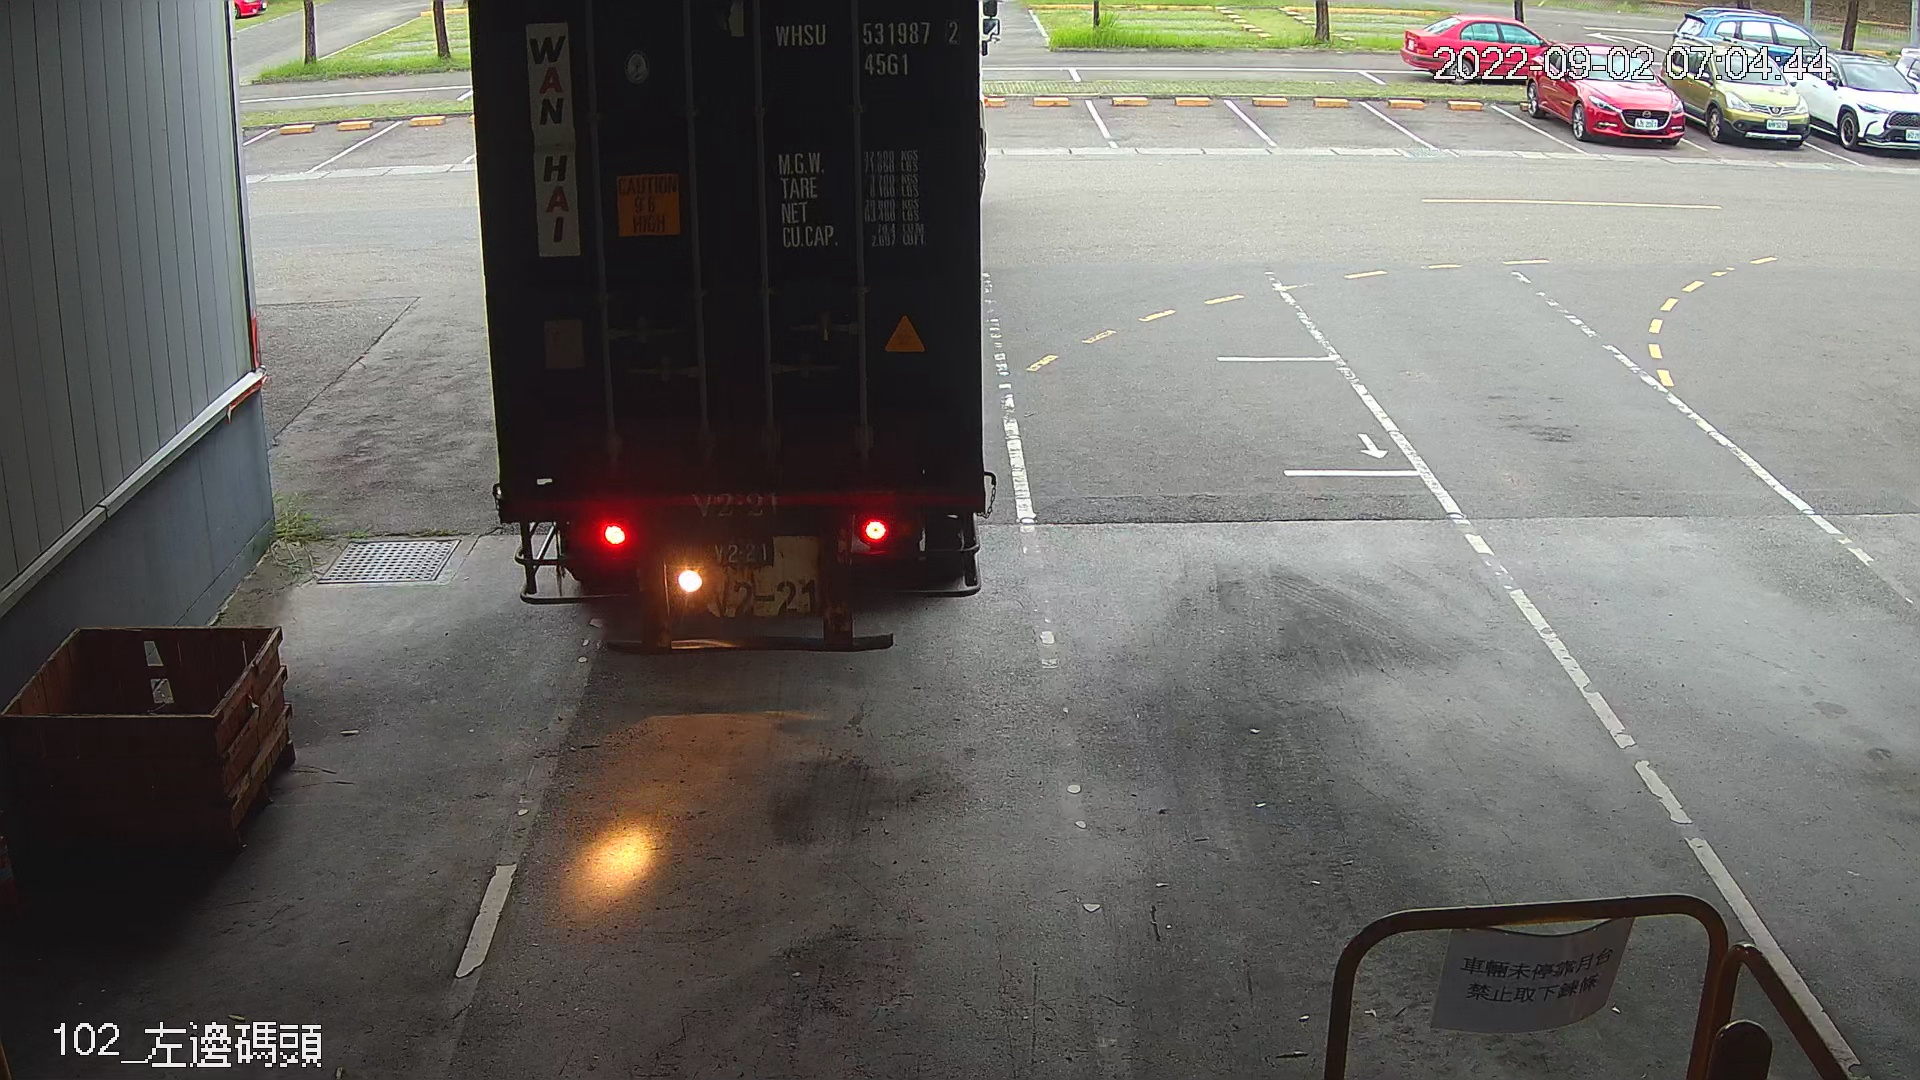container: (767, 13, 969, 88)
